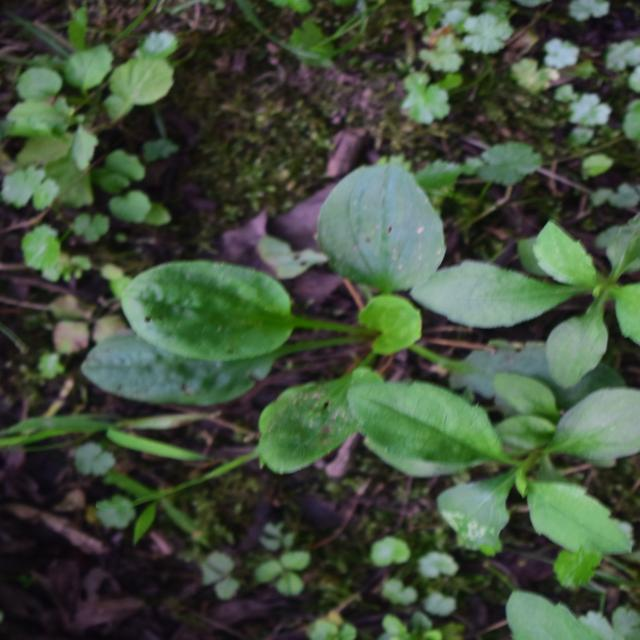plantain: (153, 104, 488, 496)
